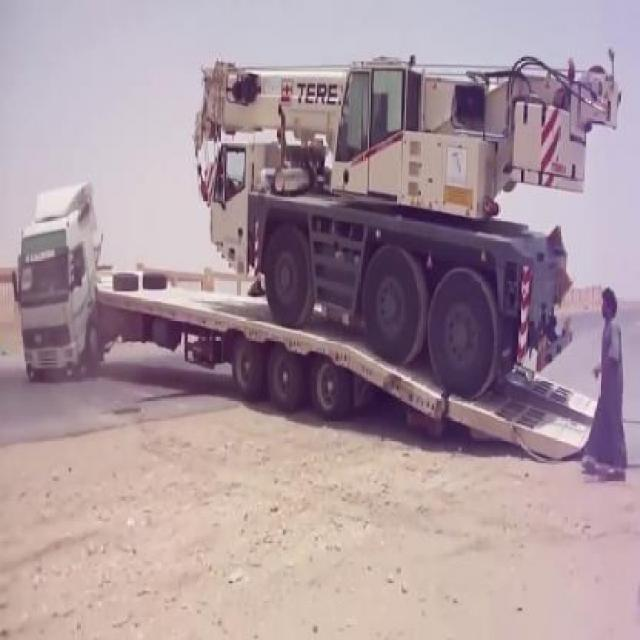Mobile Crane: (184, 50, 618, 388)
